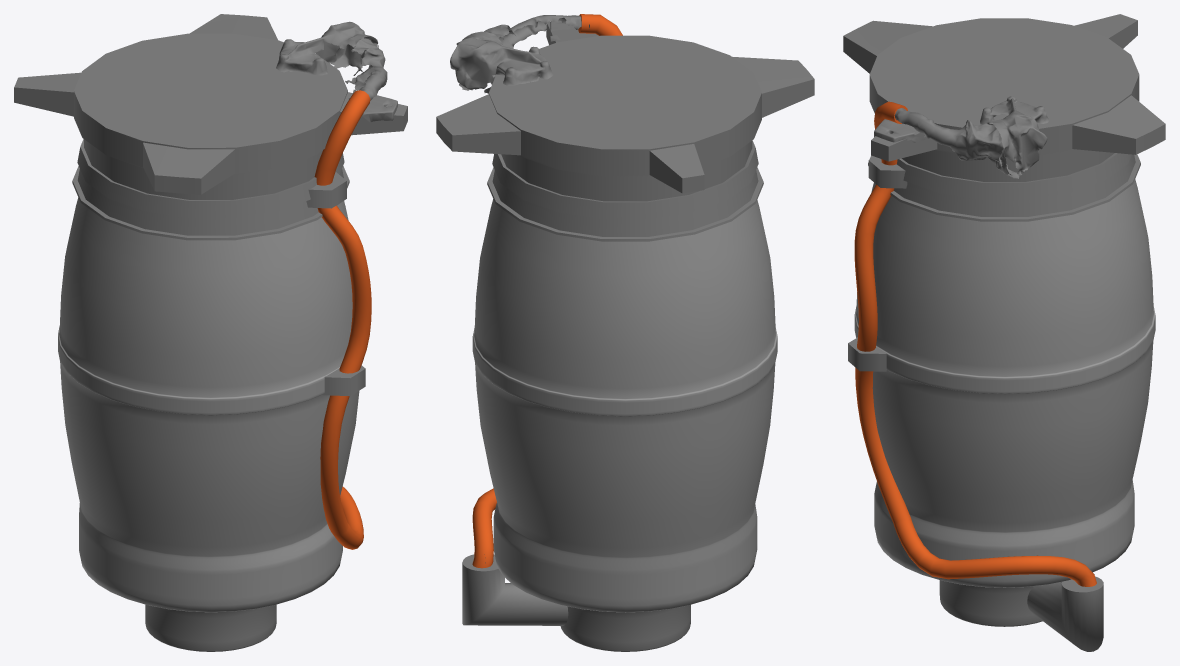
The picture shows the model from 3 angles, left to right: view 1: azimuth 30°, elevation 25°; view 2: azimuth 150°, elevation 25°; view 3: azimuth 270°, elevation 25°; orthographic projection.
Visible parts, largest first — view 1: Object003; view 2: Object003; view 3: Object003.
Boxes of the visible parts, <box> form: Object003: <box>14,14,407,651</box>; Object003: <box>436,14,814,651</box>; Object003: <box>843,14,1165,651</box>.
Size of the model in its own units: 32.85 by 30.5 by 57.3.
